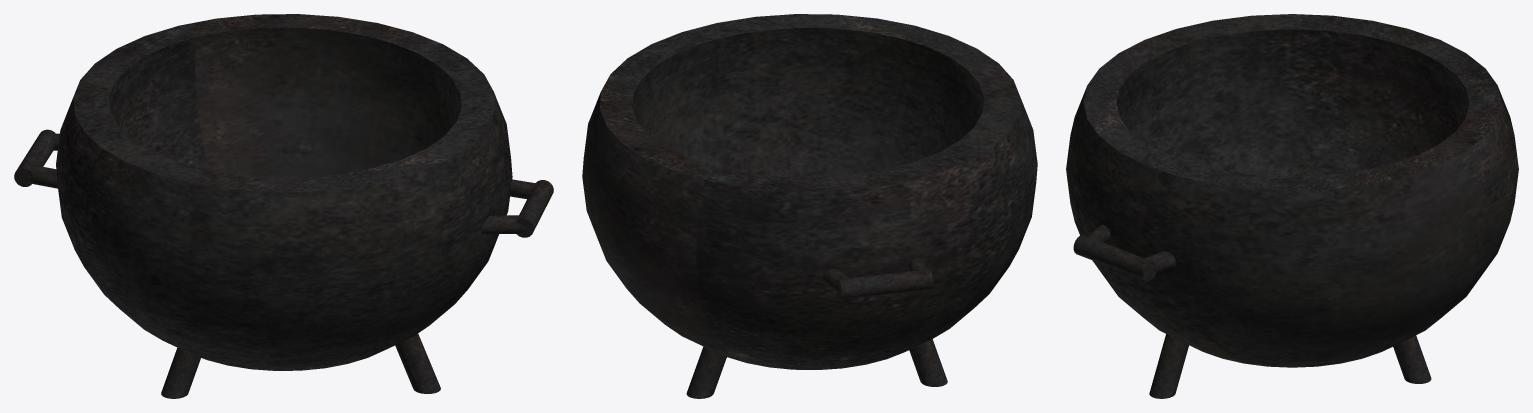
Rendered from cauldron3.DAE.
The picture shows the model from 3 angles, left to right: view 1: azimuth 30°, elevation 25°; view 2: azimuth 150°, elevation 25°; view 3: azimuth 270°, elevation 25°; orthographic projection.
Visible parts, largest first — view 1: Sphere001, Cylinder002, Cylinder001, Cylinder007, Cylinder004, Cylinder008, Cylinder006; view 2: Sphere001, Cylinder004, Cylinder003, Cylinder001; view 3: Sphere001, Cylinder007, Cylinder002, Cylinder003, Cylinder009.
Boxes of the visible parts, x1,y1,x2,y2 form: Sphere001: (56, 14, 512, 370); Cylinder002: (395, 333, 440, 393); Cylinder001: (161, 347, 200, 398); Cylinder007: (516, 180, 553, 237); Cylinder004: (14, 129, 55, 186); Cylinder008: (481, 215, 525, 234); Cylinder006: (29, 164, 57, 188); Sphere001: (582, 14, 1037, 369); Cylinder004: (837, 269, 932, 299); Cylinder003: (686, 346, 726, 398); Cylinder001: (909, 339, 947, 386); Sphere001: (1066, 14, 1518, 367); Cylinder007: (1073, 235, 1156, 280); Cylinder002: (1149, 334, 1188, 398); Cylinder003: (1393, 335, 1431, 383); Cylinder009: (1144, 251, 1176, 273).
Size of the model in its own units: 45.9 by 28.37 by 45.9.
